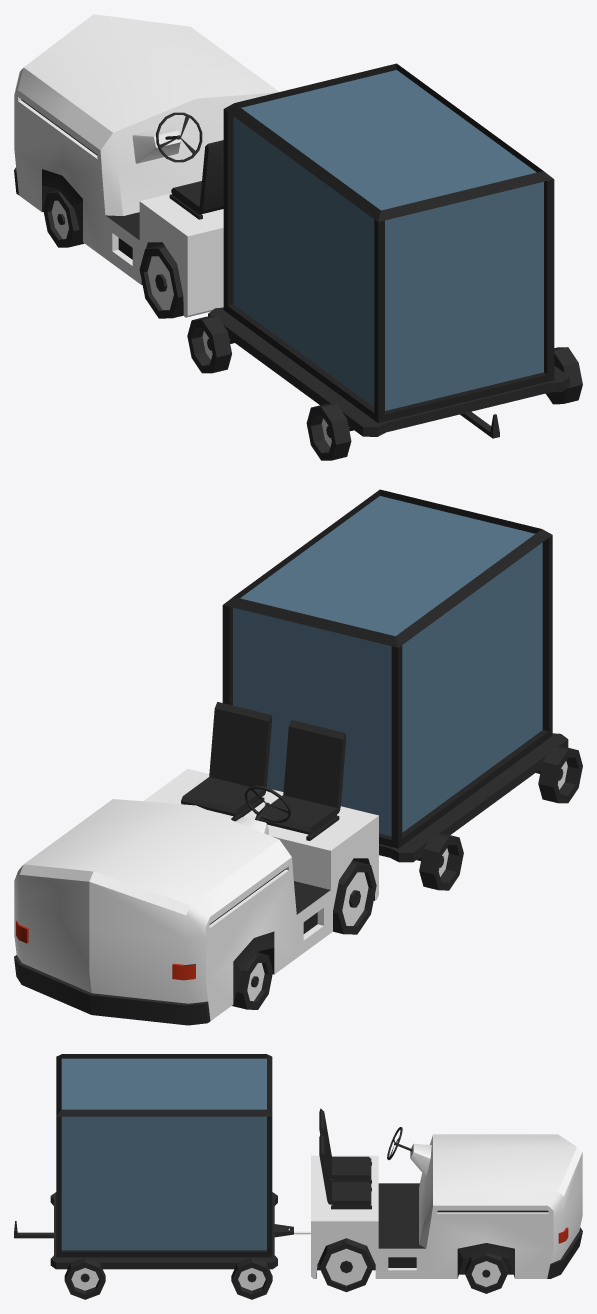
The model's file is Baggage Tractor.fbx.
The picture shows the model from 3 angles, top to bottom: view 1: azimuth 30°, elevation 25°; view 2: azimuth 150°, elevation 25°; view 3: azimuth 270°, elevation 25°; orthographic projection. The views are drawn at different scales.
Parts seen in each view (by area): view 1: Baggage Tractor; view 2: Baggage Tractor; view 3: Baggage Tractor.
Boxes of the visible parts, x1=… form: Baggage Tractor: x1=14, y1=14, x2=582, y2=460; Baggage Tractor: x1=14, y1=489, x2=582, y2=1025; Baggage Tractor: x1=14, y1=1054, x2=582, y2=1299.
Bounding box in the file's own units: 296 × 292 × 845.
